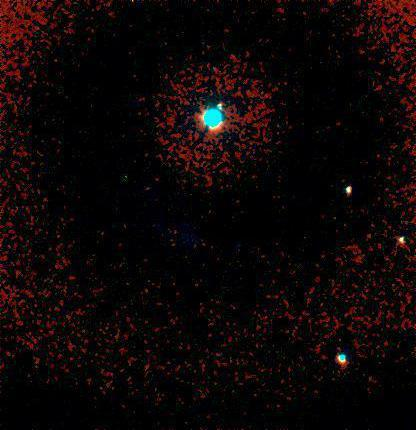star: (107, 162, 137, 192)
